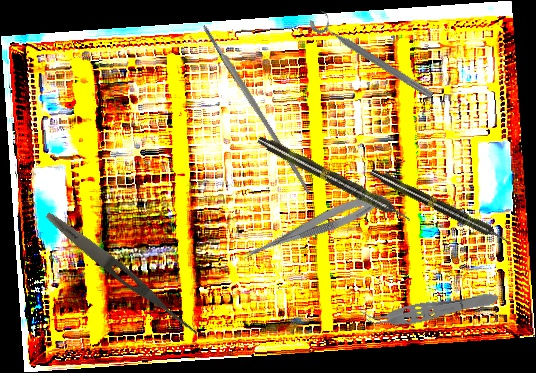Dressing Forceps: (42, 208, 203, 339)
Fixation Ring: (306, 6, 441, 103)
Handpiece: (255, 132, 414, 227), (368, 165, 513, 249)
Micro Scissor: (238, 186, 388, 270)
Scalpel Handle: (201, 22, 313, 196)
Tissue Forceps: (359, 286, 500, 333)
